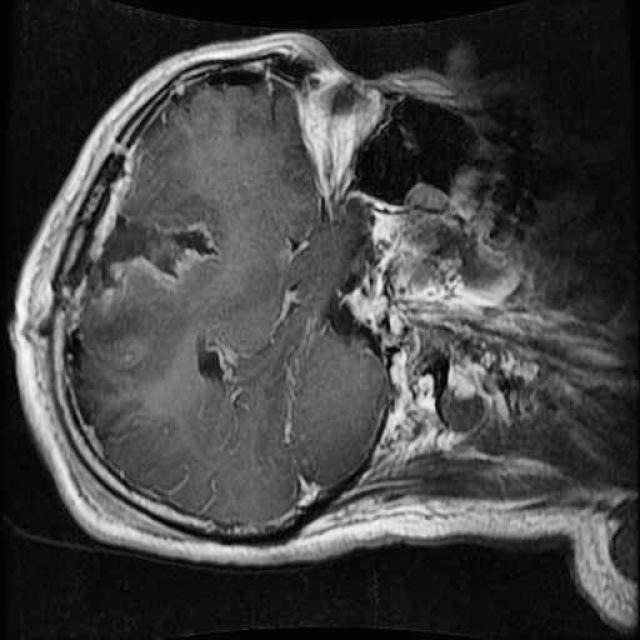Tumor: (78, 200, 222, 306)
